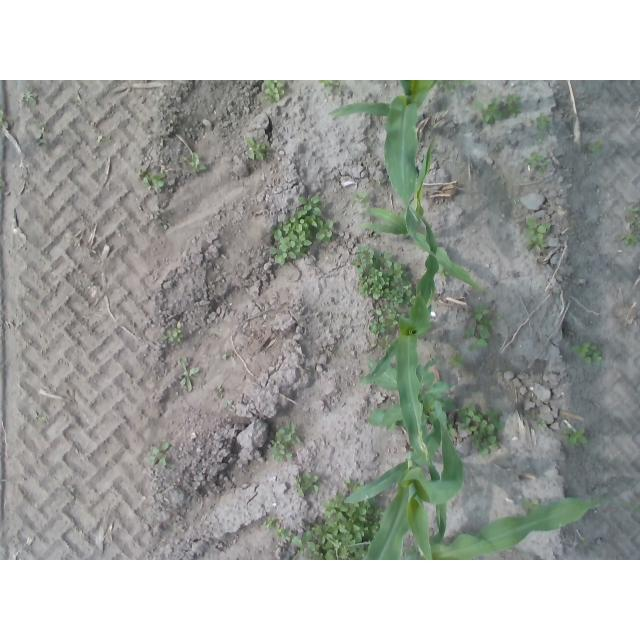Maize: (347, 290, 482, 518), (332, 80, 437, 256), (364, 136, 481, 289), (353, 492, 604, 560)
Weeds: (302, 485, 378, 560), (268, 196, 336, 264), (353, 247, 419, 305), (459, 405, 506, 456), (268, 422, 304, 460), (468, 300, 496, 346), (477, 95, 520, 123), (523, 217, 552, 252), (572, 338, 604, 366), (370, 308, 399, 333), (245, 136, 274, 161), (625, 203, 640, 251), (267, 522, 301, 542), (179, 359, 201, 389), (182, 151, 207, 176), (567, 425, 590, 451), (138, 167, 166, 188), (149, 441, 170, 468), (263, 81, 286, 103), (529, 149, 548, 175), (297, 473, 319, 495), (164, 327, 184, 347), (536, 113, 553, 136), (20, 89, 39, 107), (590, 142, 605, 158)
